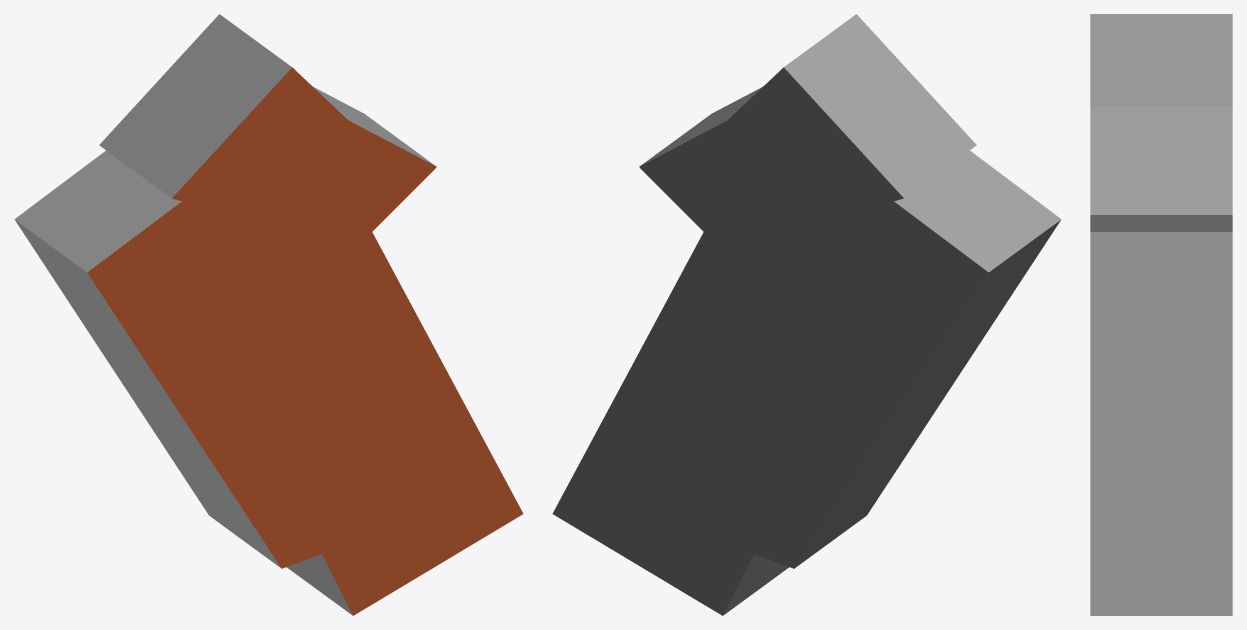
Rendered from construction_6203_assumed_A_Casa_h6m.obj.
3 views of the same model, side by side, from view 1: azimuth 30°, elevation 25°; view 2: azimuth 150°, elevation 25°; view 3: azimuth 270°, elevation 25° (orthographic). The views are drawn at different scales.
Parts seen in each view (by area): view 1: construction_6203_assumed_A_Casa; view 2: construction_6203_assumed_A_Casa; view 3: construction_6203_assumed_A_Casa.
Boxes of the visible parts, x1,y1,x2,y2 form: construction_6203_assumed_A_Casa: (14,14,523,615); construction_6203_assumed_A_Casa: (552,14,1061,615); construction_6203_assumed_A_Casa: (1090,14,1232,615).
Size of the model in its own units: 20.76 by 25.62 by 6.
